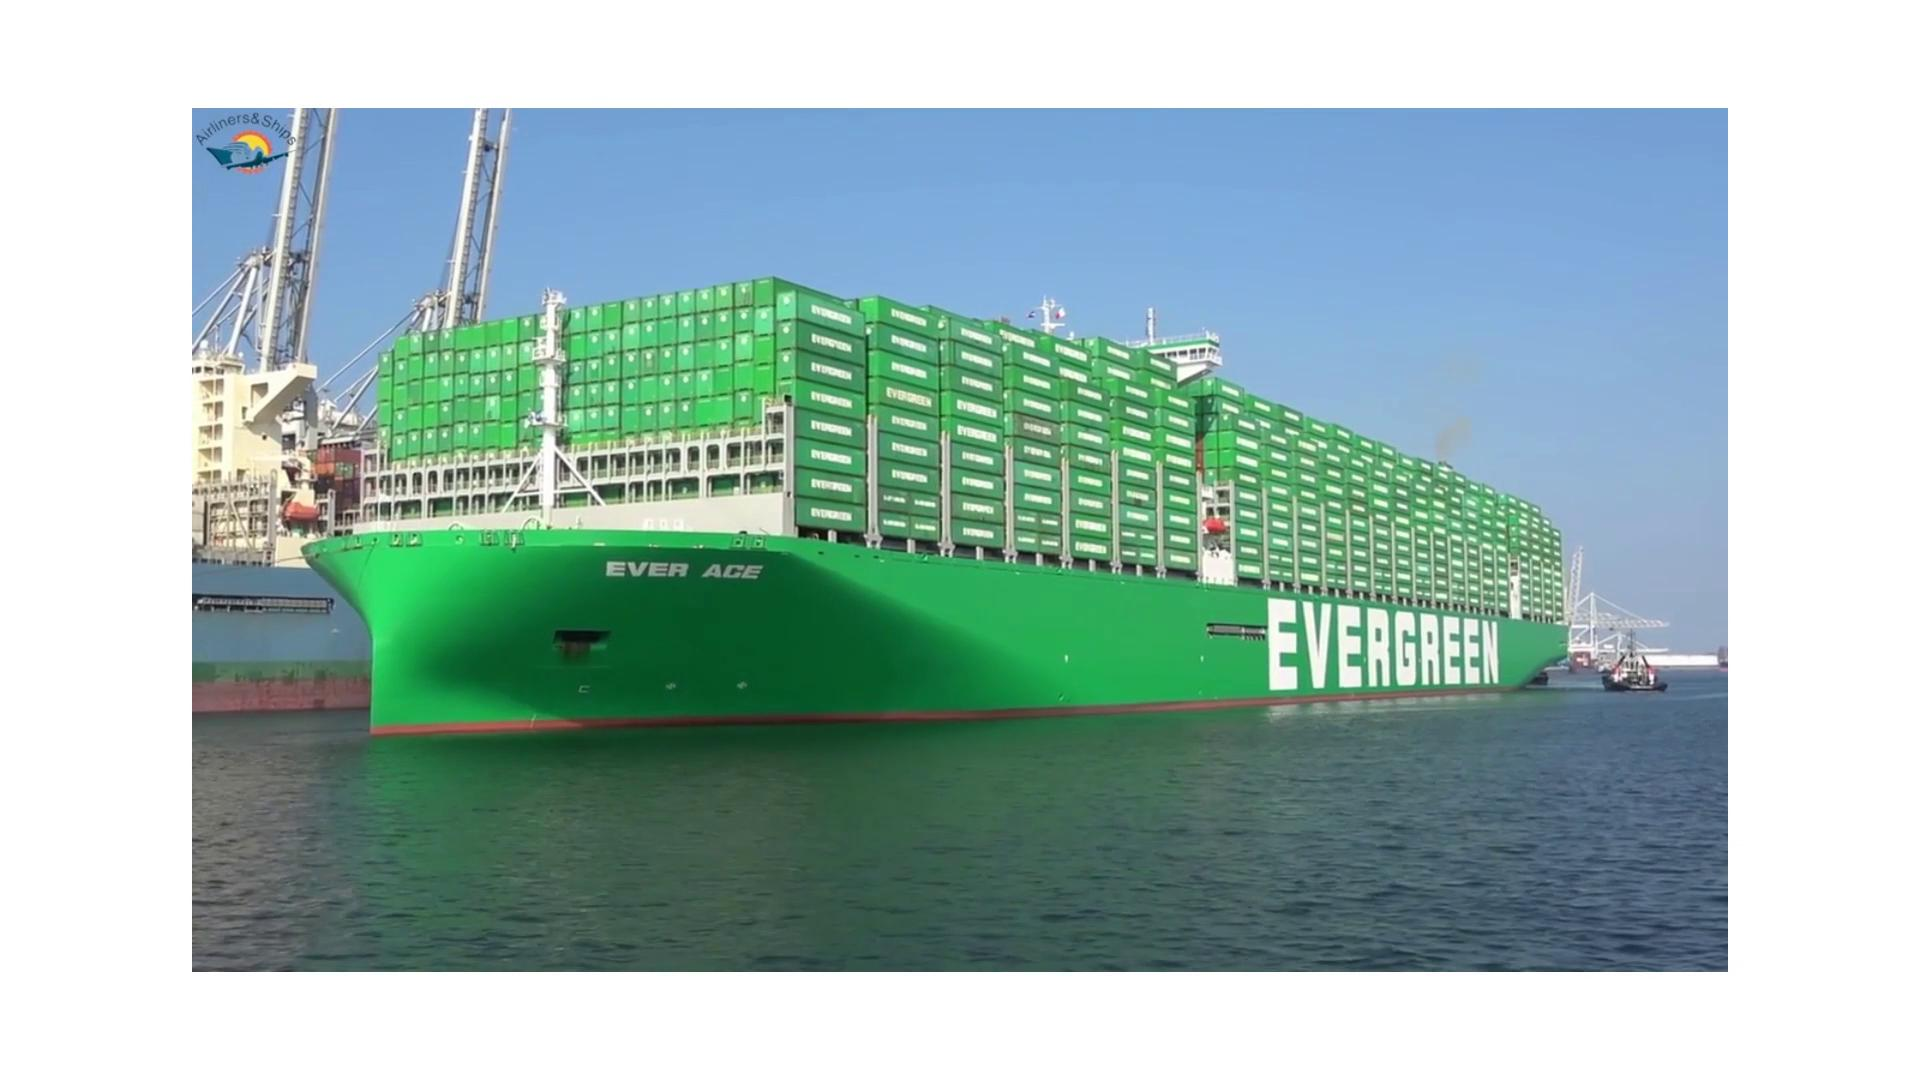OCR: (1233, 572, 1516, 709), (593, 535, 785, 600)
